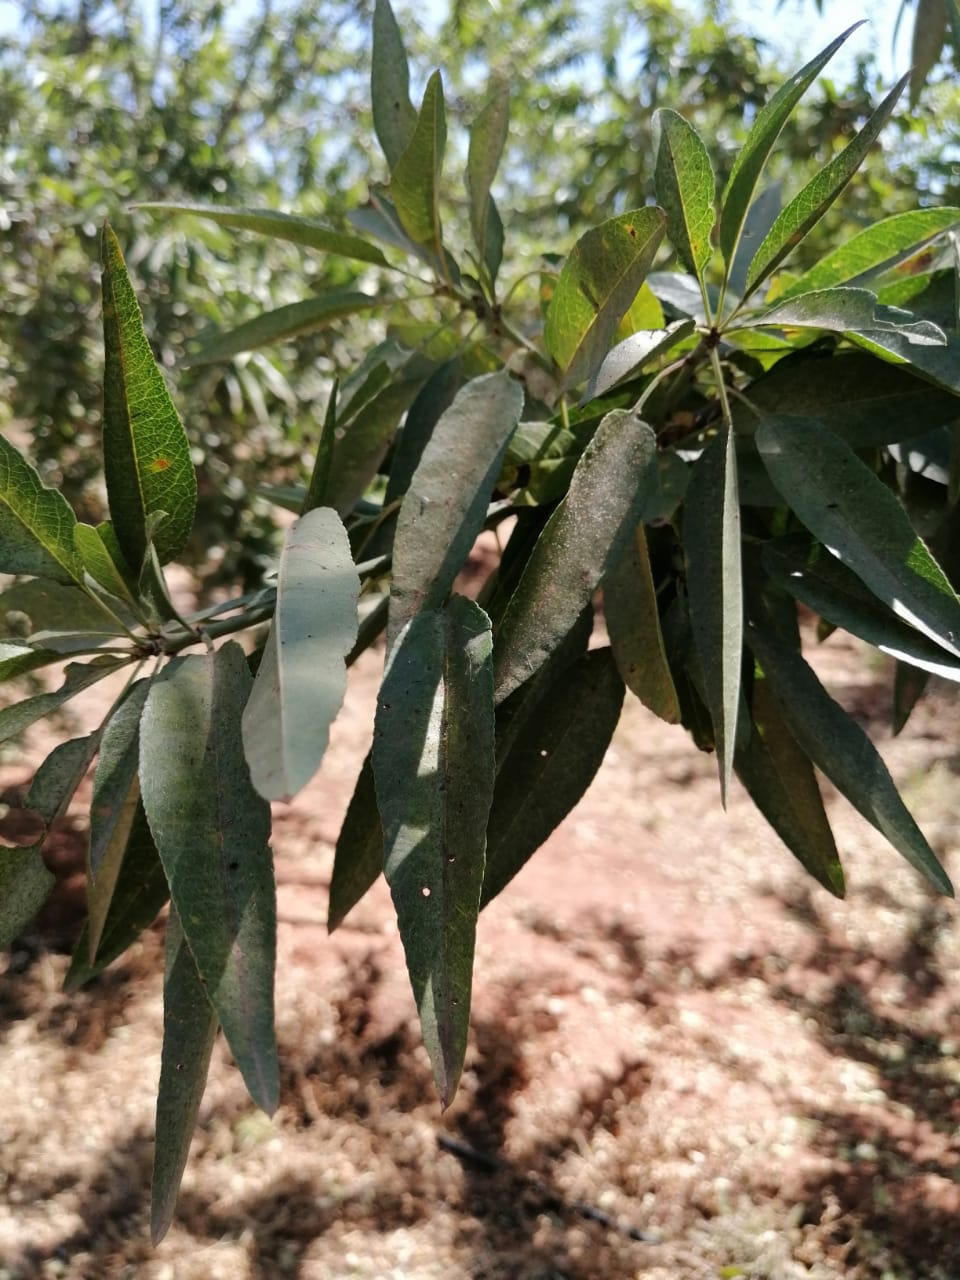acariens: (374, 594, 499, 1110), (753, 410, 960, 661), (494, 408, 657, 706), (386, 369, 518, 664), (241, 507, 361, 811)
